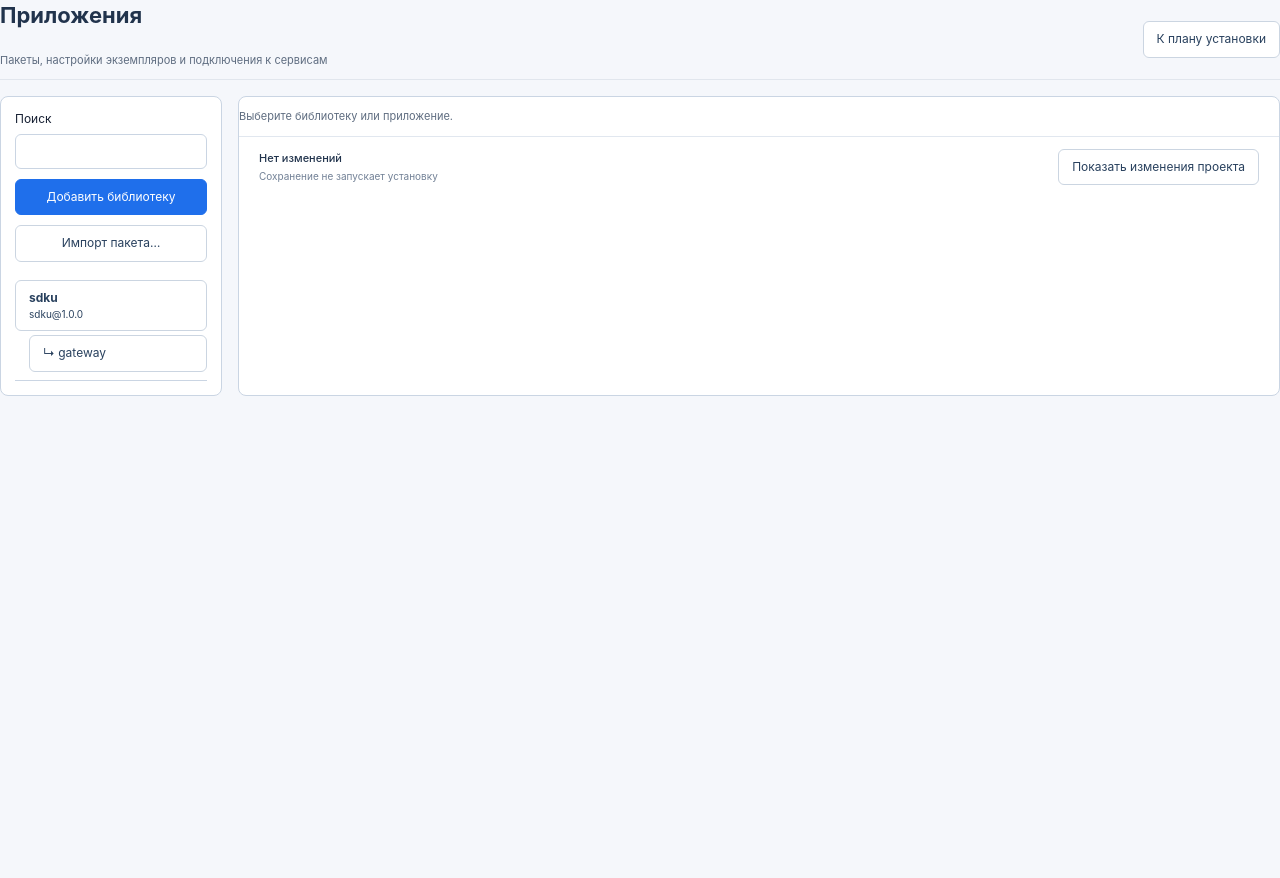
Scenario: application editor › resets common overrides at library scope without creating a slot
Step 1. Click the button "sdku sdku@1.0.0" → (111, 306), box [15,280,207,331]
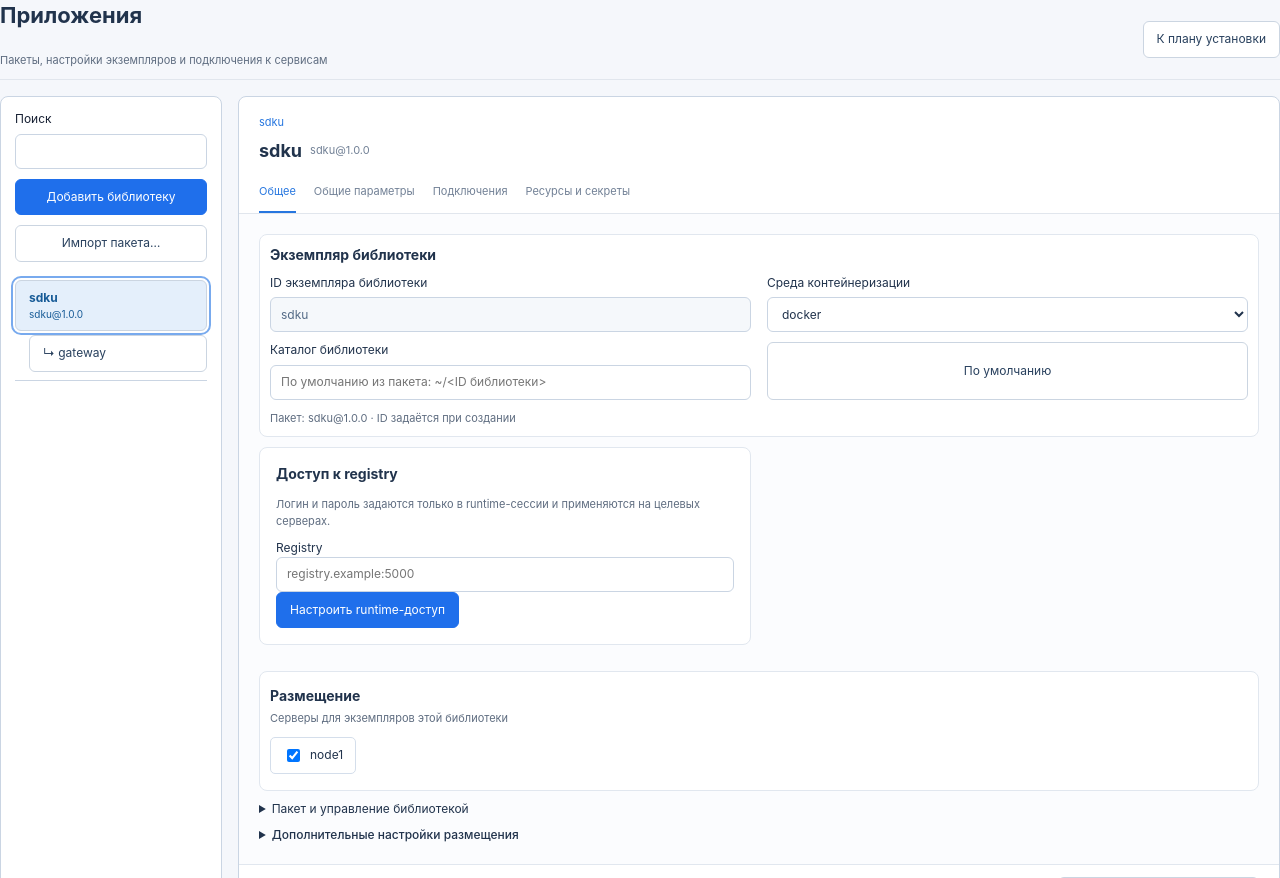
Step 2. Click the button "Общие параметры" → (364, 192), box [314,172,415,213]
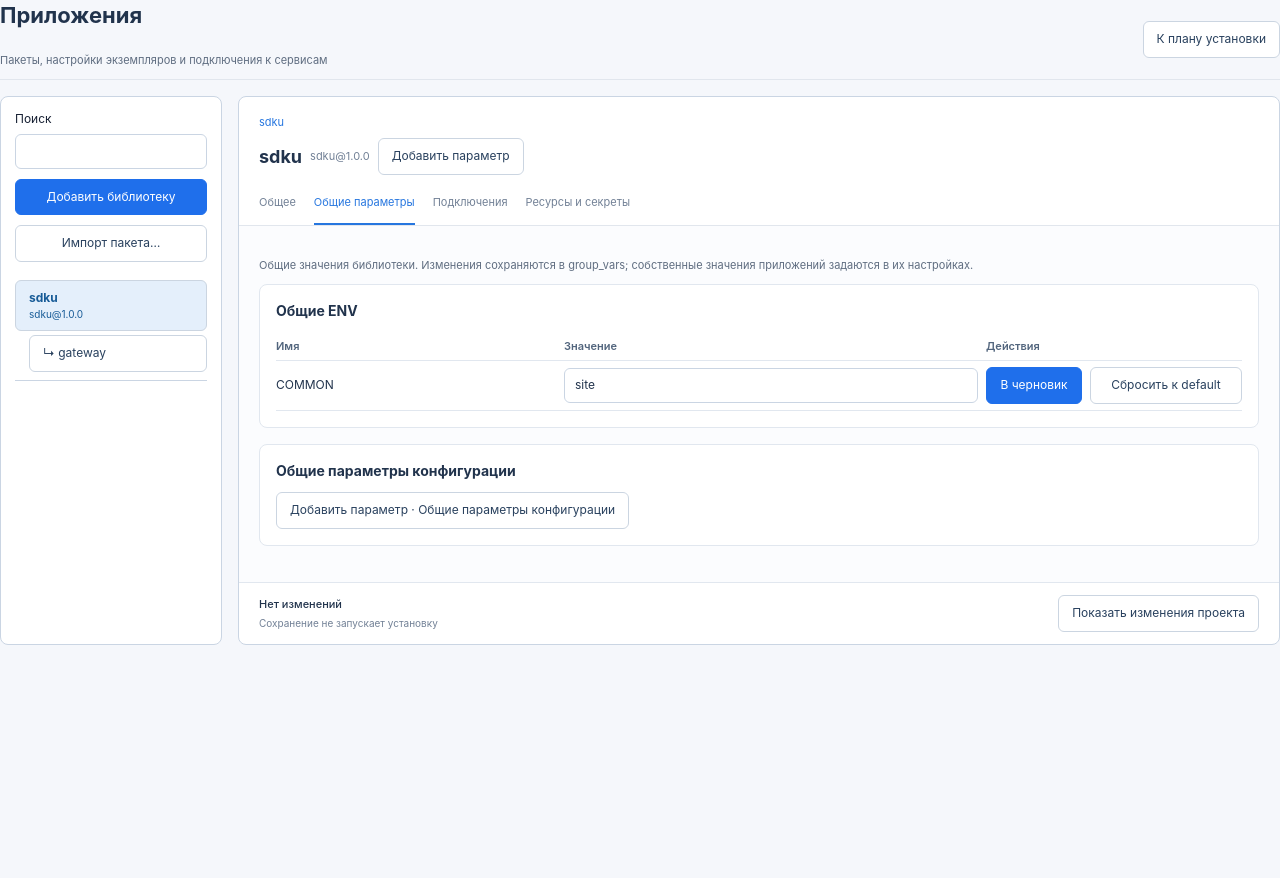
Expected: the field labelled "COMMON" holds "site", [564,368,978,403]
Step 3. Click the button "Сбросить к default" → (1166, 386), box [1090,367,1242,404]
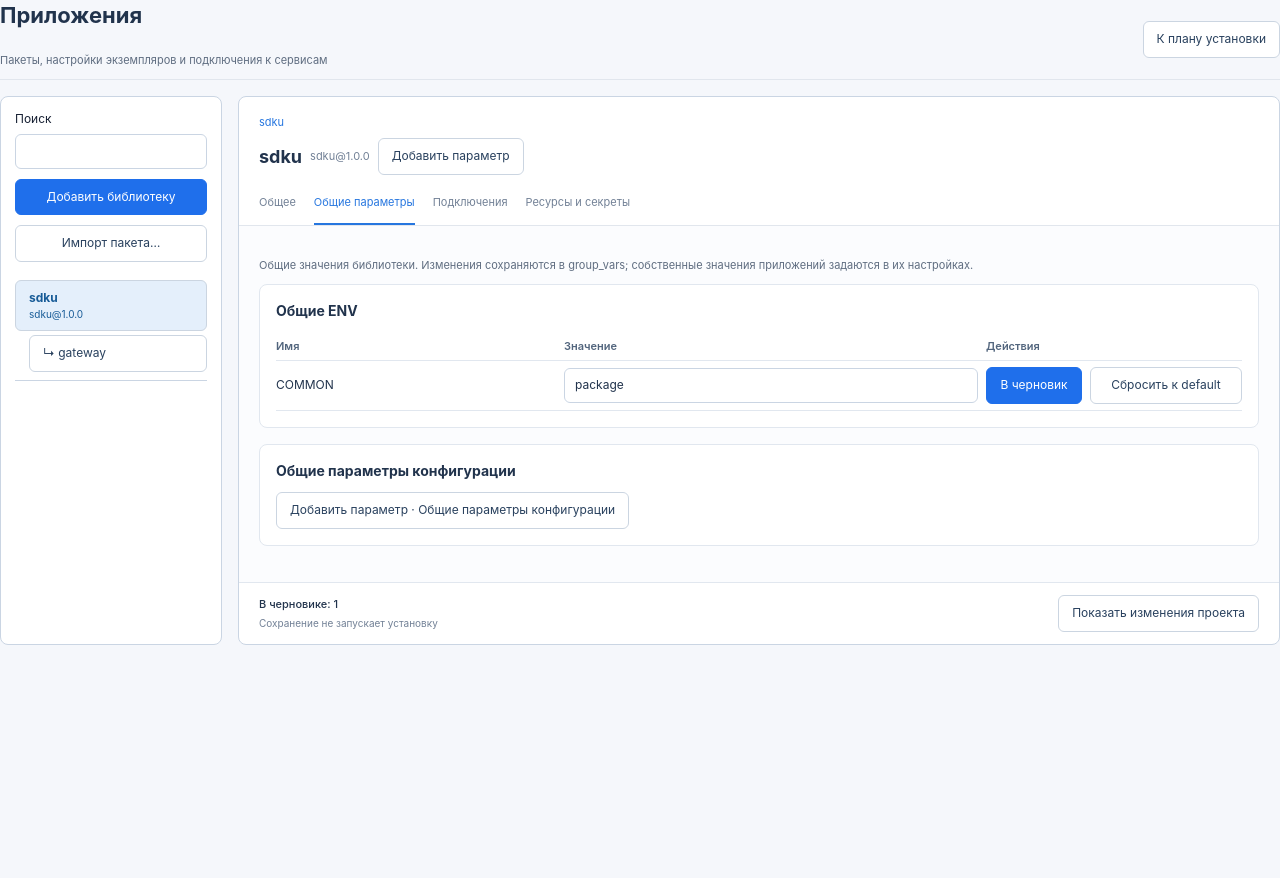
Expected: the field labelled "COMMON" holds "package", [564,368,978,403]
